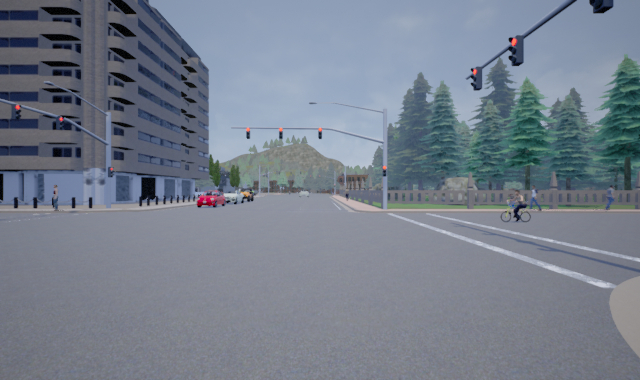bike: (500, 191, 531, 223)
pedestrian: (526, 183, 542, 210), (603, 183, 618, 211), (504, 191, 519, 210), (51, 183, 60, 212), (345, 187, 350, 201)
traffic_light: (509, 34, 523, 67), (470, 66, 483, 91), (588, 1, 614, 13), (12, 104, 22, 120), (56, 115, 64, 130), (107, 166, 114, 178), (278, 126, 284, 139), (246, 127, 251, 141), (318, 127, 323, 138), (382, 166, 386, 175)
vehicle: (197, 190, 226, 207), (216, 189, 245, 205), (233, 186, 254, 202)
